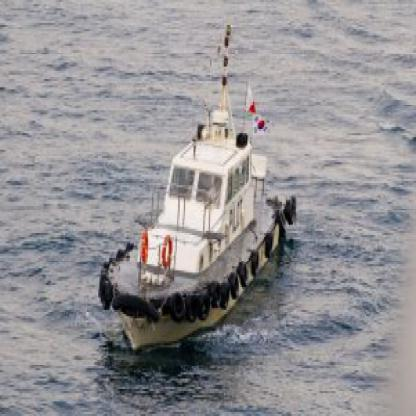fish-b: (88, 21, 306, 372)
